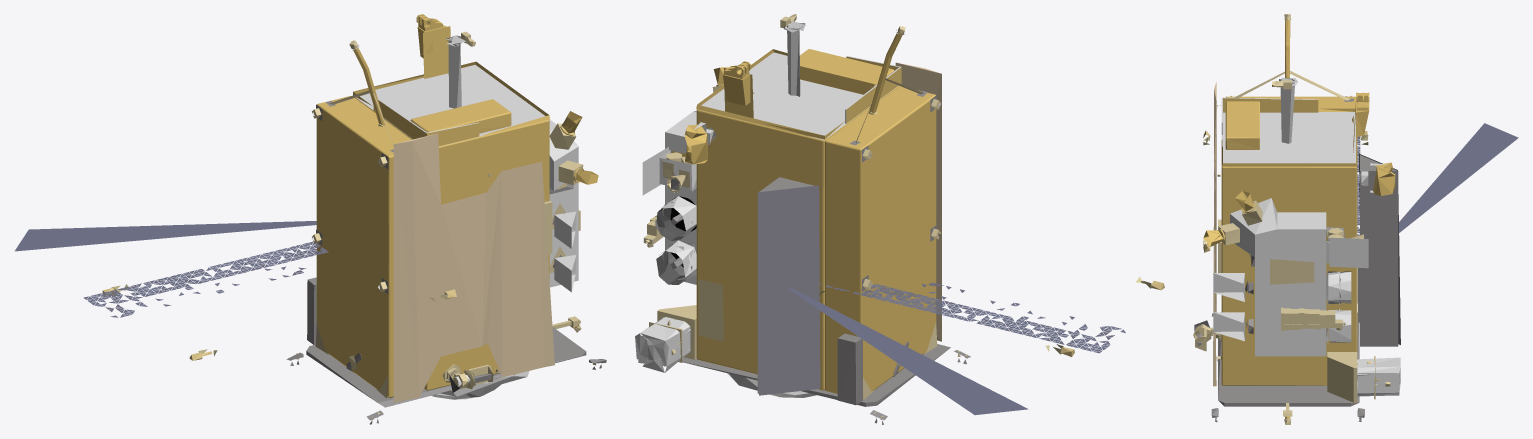
The model's file is lro-preview.glb.
3 views of the same model, side by side, from view 1: azimuth 30°, elevation 25°; view 2: azimuth 150°, elevation 25°; view 3: azimuth 270°, elevation 25° (orthographic). The views are drawn at different scales.
Parts seen in each view (by area): view 1: Layer_0, Layer_4; view 2: Layer_0, Layer_4; view 3: Layer_0, Layer_4.
Boxes of the visible parts, <box> form: Layer_0: <box>286,14,606,424</box>; Layer_4: <box>15,221,456,360</box>; Layer_0: <box>635,14,970,424</box>; Layer_4: <box>788,277,1164,415</box>; Layer_0: <box>1193,14,1400,424</box>; Layer_4: <box>1203,123,1518,252</box>.
Size of the model in its own units: 33.21 by 26.07 by 22.54.
